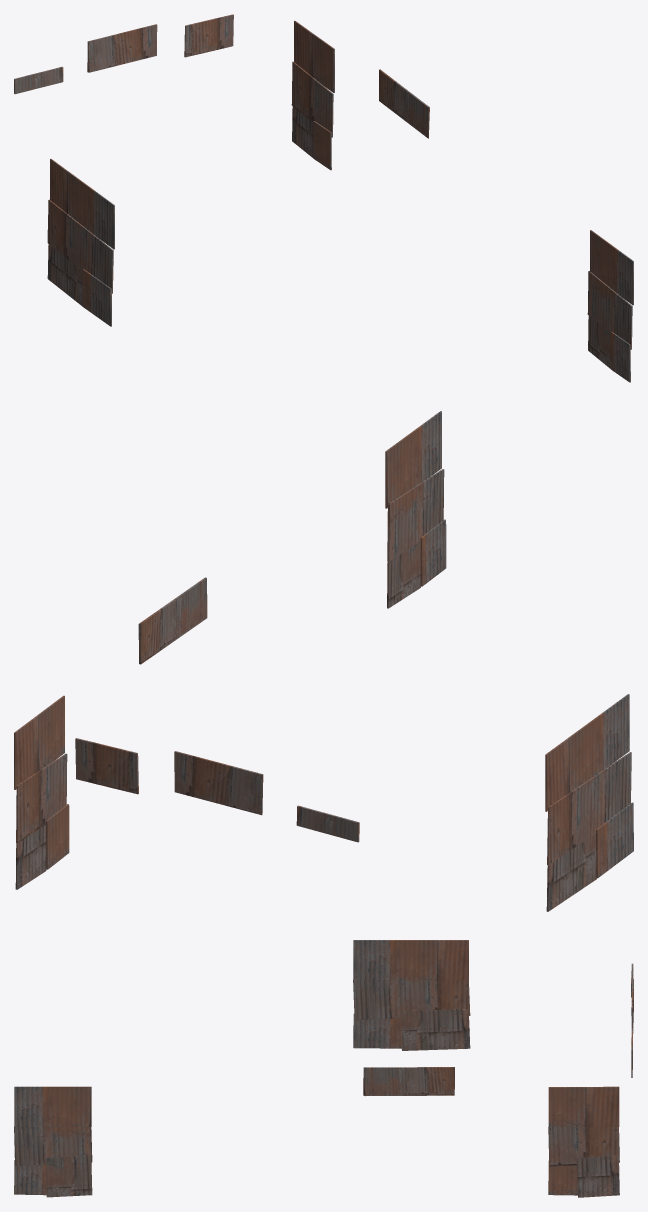
Rendered from SM_NeoLD_00_Block_Toles_00.fbx.
3 renders of one model, top to bottom at view 1: azimuth 30°, elevation 25°; view 2: azimuth 150°, elevation 25°; view 3: azimuth 270°, elevation 25°, orthographic. The views are drawn at different scales.
Parts seen in each view (by area): view 1: SM_NeoLD_00_Block_Toles_00; view 2: SM_NeoLD_00_Block_Toles_00; view 3: SM_NeoLD_00_Block_Toles_00.
Part boxes in pixels (left/top/right/bottom): SM_NeoLD_00_Block_Toles_00: left=14, top=14, right=633, bottom=382; SM_NeoLD_00_Block_Toles_00: left=14, top=411, right=633, bottom=911; SM_NeoLD_00_Block_Toles_00: left=14, top=940, right=633, bottom=1197.
Bounding box in the file's own units: 1297 × 537 × 2287.
